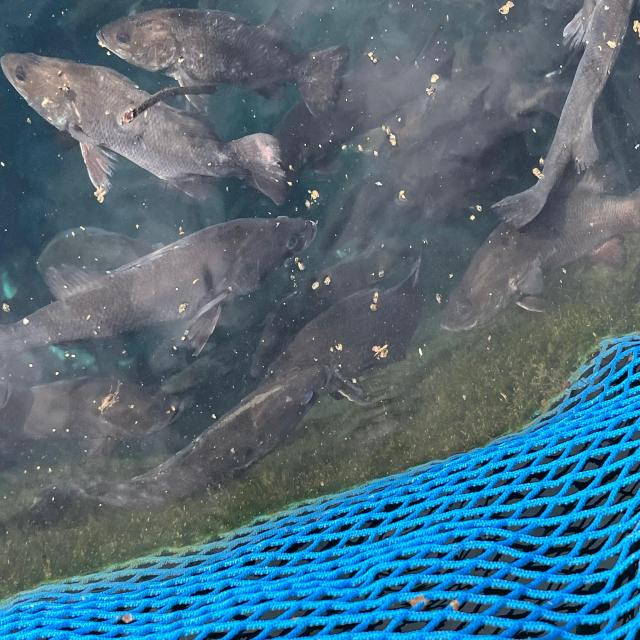ikan: (1, 213, 318, 368), (1, 50, 290, 207), (438, 160, 639, 333), (96, 6, 350, 122)
